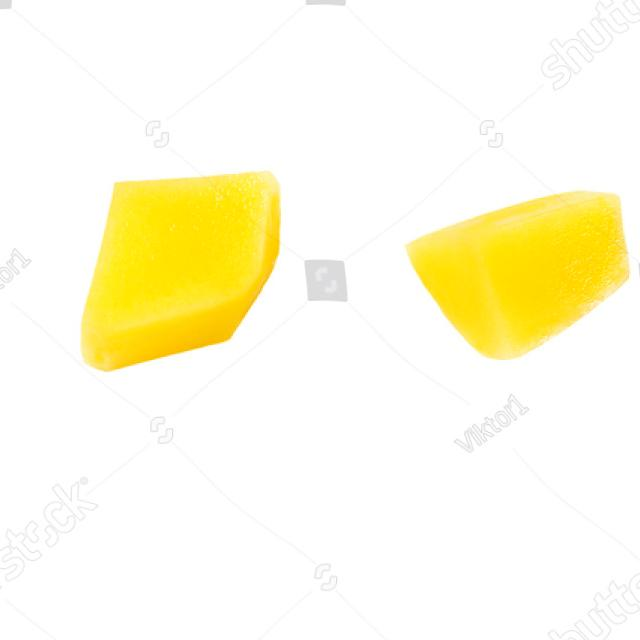potato: (76, 165, 281, 375), (406, 184, 637, 366)
